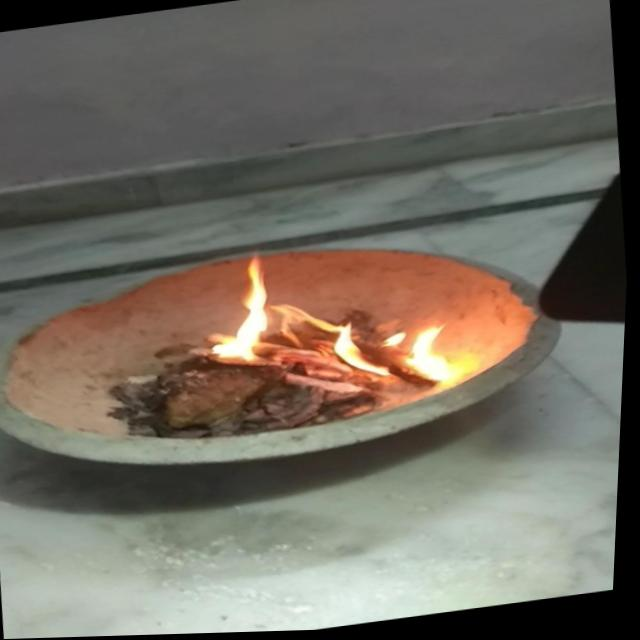fire: (198, 252, 458, 415)
